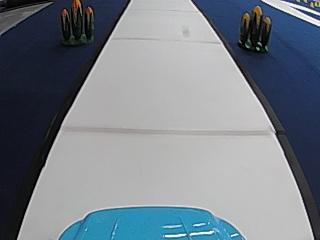corn: (54, 1, 98, 48), (235, 6, 275, 54)
